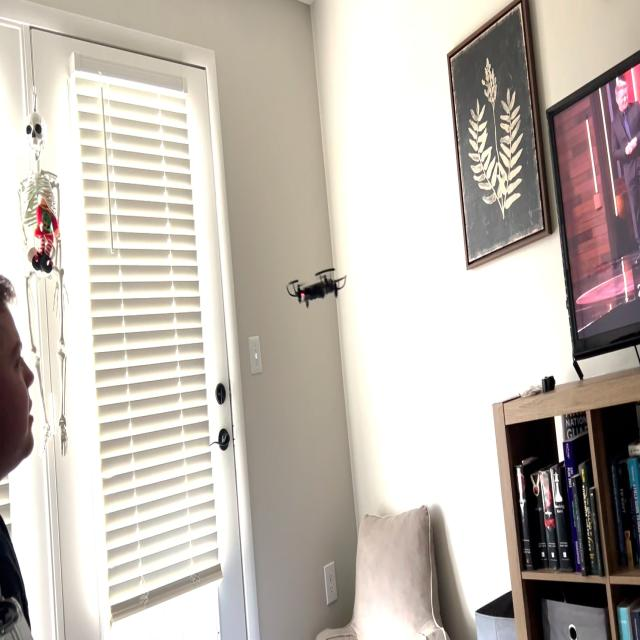drone: (282, 259, 350, 313)
